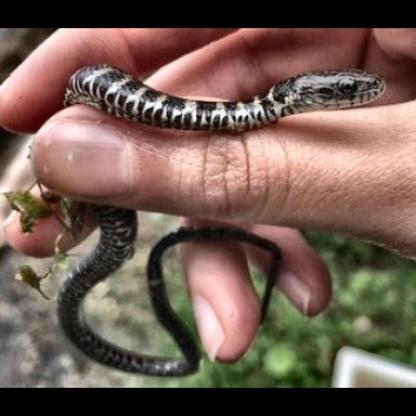Snake: (12, 55, 416, 374), (26, 204, 406, 391)
